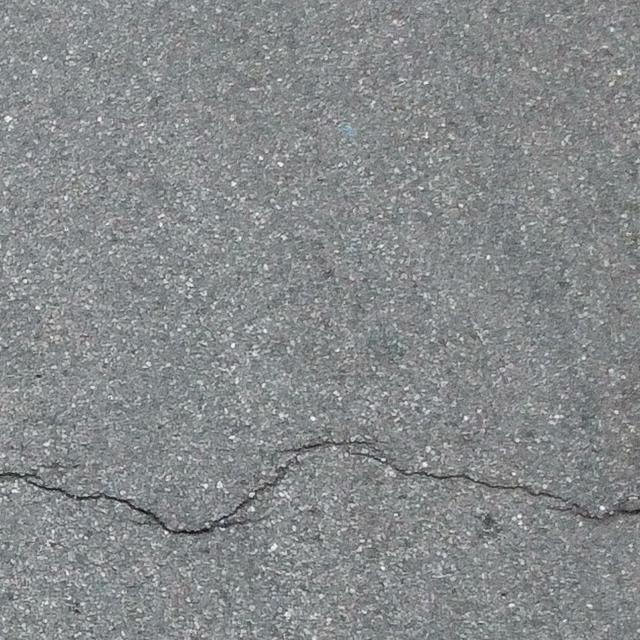TransverseCrack: (1, 435, 640, 534)
